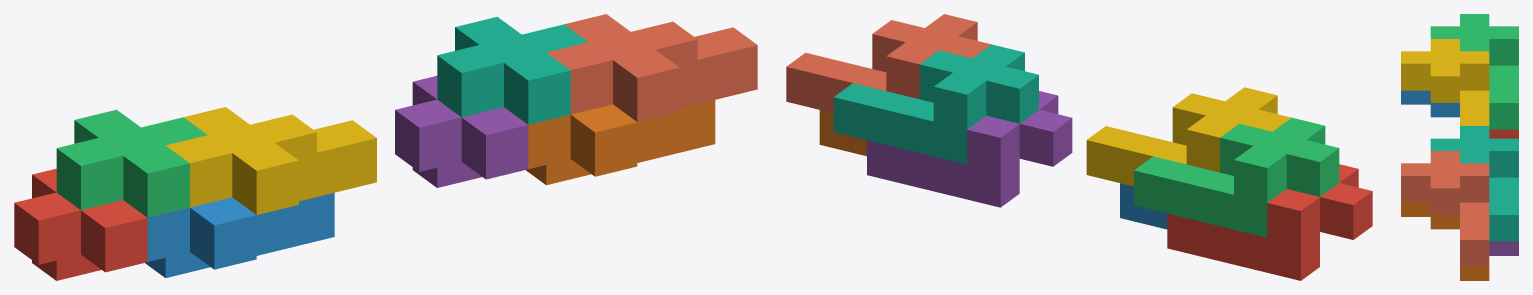
The model's file is tiling.obj.
3 renders of one model, left to right at view 1: azimuth 30°, elevation 25°; view 2: azimuth 150°, elevation 25°; view 3: azimuth 270°, elevation 25°, orthographic. The views are drawn at different scales.
Visible parts, largest first — view 1: copy_1_domain_8, copy_1_domain_4, copy_1_domain_3, copy_1_domain_7, copy_1_domain_6, copy_1_domain_2, copy_1_domain_5, copy_1_domain_1; view 2: copy_1_domain_7, copy_1_domain_3, copy_1_domain_1, copy_1_domain_5, copy_1_domain_4, copy_1_domain_8, copy_1_domain_6, copy_1_domain_2; view 3: copy_1_domain_8, copy_1_domain_4, copy_1_domain_3, copy_1_domain_7, copy_1_domain_6, copy_1_domain_2, copy_1_domain_5, copy_1_domain_1.
Boxes of the visible parts, bbox=[...] form: copy_1_domain_8: bbox=[546, 14, 757, 121]; copy_1_domain_4: bbox=[166, 107, 376, 214]; copy_1_domain_3: bbox=[56, 109, 207, 217]; copy_1_domain_7: bbox=[437, 16, 588, 124]; copy_1_domain_6: bbox=[526, 100, 715, 185]; copy_1_domain_2: bbox=[145, 192, 334, 277]; copy_1_domain_5: bbox=[395, 76, 528, 187]; copy_1_domain_1: bbox=[14, 168, 147, 280]; copy_1_domain_7: bbox=[833, 44, 1038, 164]; copy_1_domain_3: bbox=[1134, 117, 1339, 237]; copy_1_domain_1: bbox=[1167, 164, 1372, 280]; copy_1_domain_5: bbox=[867, 91, 1072, 207]; copy_1_domain_4: bbox=[1086, 87, 1291, 186]; copy_1_domain_8: bbox=[786, 14, 990, 112]; copy_1_domain_6: bbox=[819, 110, 866, 156]; copy_1_domain_2: bbox=[1120, 183, 1167, 229]; copy_1_domain_8: bbox=[1401, 151, 1489, 266]; copy_1_domain_4: bbox=[1401, 39, 1489, 125]; copy_1_domain_3: bbox=[1430, 14, 1518, 129]; copy_1_domain_7: bbox=[1430, 126, 1518, 241]; copy_1_domain_6: bbox=[1401, 202, 1489, 280]; copy_1_domain_2: bbox=[1401, 90, 1459, 117]; copy_1_domain_5: bbox=[1489, 241, 1518, 255]; copy_1_domain_1: bbox=[1489, 129, 1518, 138].
Bounding box in the file's own units: 17 × 3 × 4.
